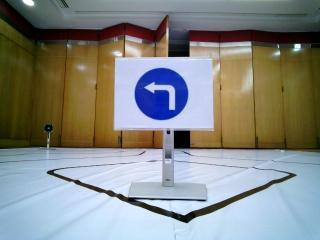left: (119, 60, 209, 128)
